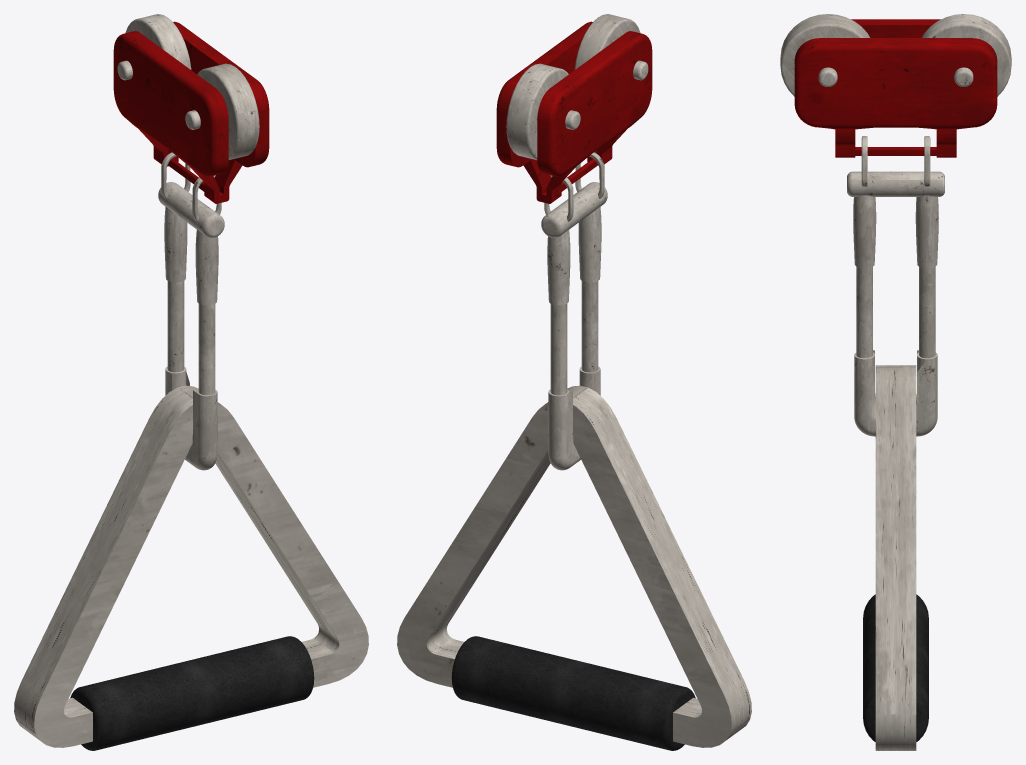
File: Zipline.fbx
3 renders of one model, left to right at view 1: azimuth 30°, elevation 25°; view 2: azimuth 150°, elevation 25°; view 3: azimuth 270°, elevation 25°, orthographic.
Parts seen in each view (by area): view 1: Cylinder, Cylinder.001, Cube.001, Cube, Cylinder.002; view 2: Cylinder, Cylinder.001, Cube.001, Cube, Cylinder.002; view 3: Cube.001, Cylinder, Cube, Cylinder.002, Cylinder.001.
Part boxes in pixels (left/top/right/bottom): Cylinder: left=14, top=385, right=368, bottom=747; Cylinder.001: left=70, top=636, right=314, bottom=750; Cube.001: left=113, top=21, right=269, bottom=203; Cube: left=158, top=152, right=224, bottom=470; Cylinder.002: left=117, top=14, right=259, bottom=159; Cylinder: left=397, top=385, right=751, bottom=747; Cylinder.001: left=451, top=636, right=695, bottom=750; Cube.001: left=496, top=21, right=652, bottom=203; Cube: left=541, top=152, right=607, bottom=470; Cylinder.002: left=506, top=14, right=648, bottom=159; Cube.001: left=794, top=19, right=997, bottom=157; Cylinder: left=875, top=365, right=916, bottom=750; Cube: left=847, top=136, right=944, bottom=436; Cylinder.002: left=780, top=14, right=1011, bottom=96; Cylinder.001: left=863, top=594, right=928, bottom=741.
Bounding box in the file's own units: 399 × 773 × 238.
